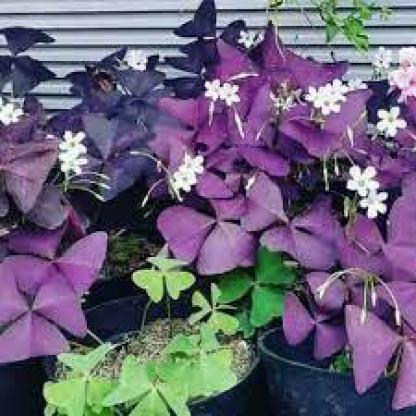Kupu-Kupu: (1, 230, 101, 349), (347, 301, 415, 391), (175, 190, 254, 266), (256, 191, 328, 273), (277, 286, 353, 349)
